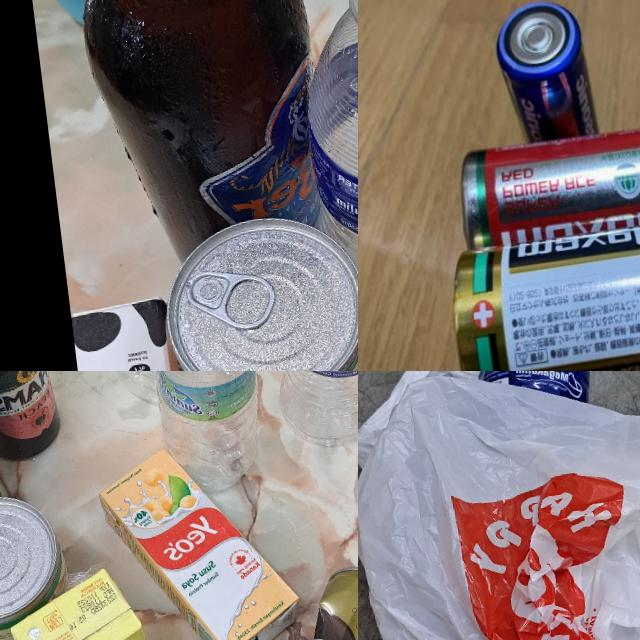aba de lata: (182, 264, 280, 337)
bateria: (441, 213, 640, 371), (448, 121, 640, 256), (488, 0, 608, 151)
caixinha: (92, 434, 304, 640), (69, 290, 236, 371), (6, 564, 156, 640)
garrafa de vidro: (77, 0, 336, 276)
garrafa plástica: (294, 0, 358, 329), (139, 371, 278, 496), (452, 371, 600, 448), (258, 371, 358, 449)
lata: (158, 207, 358, 371), (0, 487, 78, 640), (289, 560, 358, 640)
sacola plástica: (358, 371, 640, 640)
